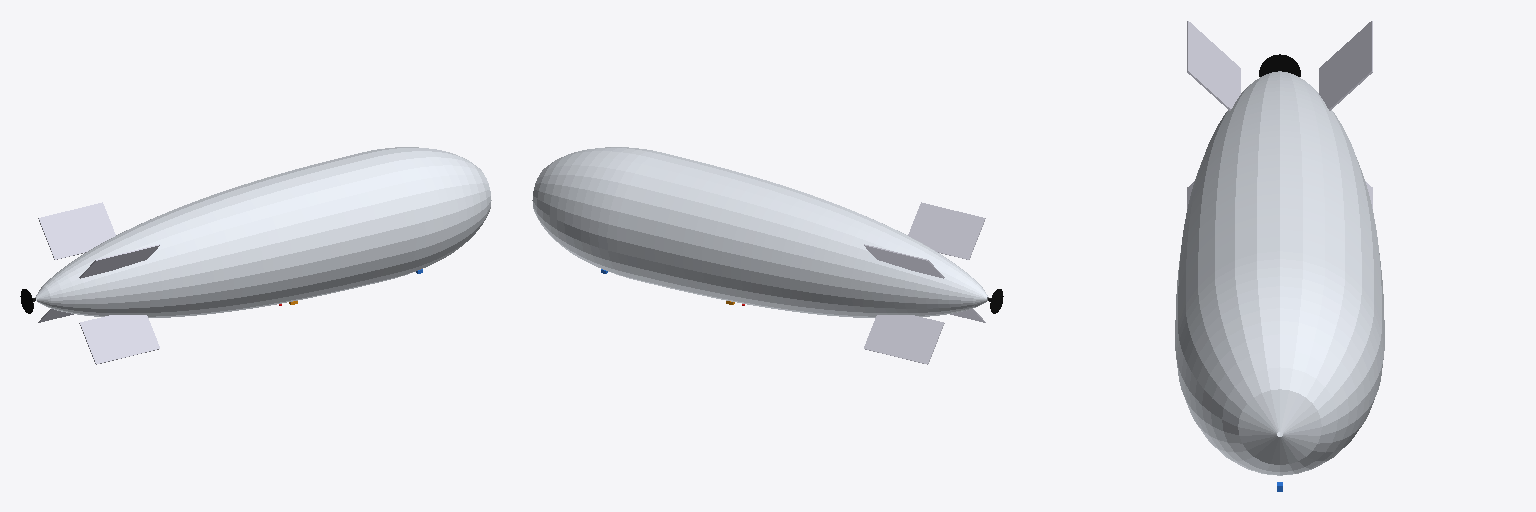
The robot description file, URDF, robot "aiur_S2-dayloiter_hull":
<?xml version="1.0"?>
<!-- GENERATED by tools/strato_export.py from design point S2-dayloiter/hull. Do not edit. -->
<robot name="aiur_S2-dayloiter_hull">
  <link name="base_link">
    <inertial><mass value="15.7619"/>
      <origin xyz="0 0 -1.2139"/>
      <inertia ixx="46.329" iyy="289.673" izz="266.446" ixy="0" ixz="0" iyz="0"/></inertial>
    <visual><geometry><mesh filename="package://aiur_description/meshes/S2-dayloiter_hull_hull.stl"/></geometry>
      <material name="film"><color rgba="0.92 0.94 0.97 0.55"/></material></visual>
  </link>
  <link name="fin_0_link"><visual><geometry><box size="2.512 0.04 1.570"/></geometry>
    <material name="fin"><color rgba="0.85 0.85 0.9 0.9"/></material></visual></link>
  <joint name="fin_0_joint" type="fixed"><parent link="base_link"/><child link="fin_0_link"/>
    <origin xyz="-7.560 -1.387 1.387" rpy="0.7854 0 0"/></joint>
  <link name="fin_1_link"><visual><geometry><box size="2.512 0.04 1.570"/></geometry>
    <material name="fin"><color rgba="0.85 0.85 0.9 0.9"/></material></visual></link>
  <joint name="fin_1_joint" type="fixed"><parent link="base_link"/><child link="fin_1_link"/>
    <origin xyz="-7.560 -1.387 -1.387" rpy="2.3562 0 0"/></joint>
  <link name="fin_2_link"><visual><geometry><box size="2.512 0.04 1.570"/></geometry>
    <material name="fin"><color rgba="0.85 0.85 0.9 0.9"/></material></visual></link>
  <joint name="fin_2_joint" type="fixed"><parent link="base_link"/><child link="fin_2_link"/>
    <origin xyz="-7.560 1.387 -1.387" rpy="3.9270 0 0"/></joint>
  <link name="fin_3_link"><visual><geometry><box size="2.512 0.04 1.570"/></geometry>
    <material name="fin"><color rgba="0.85 0.85 0.9 0.9"/></material></visual></link>
  <joint name="fin_3_joint" type="fixed"><parent link="base_link"/><child link="fin_3_link"/>
    <origin xyz="-7.560 1.387 1.387" rpy="5.4978 0 0"/></joint>
  <link name="bay_link"><visual><geometry><box size="0.26 0.16 0.12"/></geometry><material name="bay_link"><color rgba="0.95 0.6 0.1 1"/></material></visual></link>
  <joint name="bay_link_joint" type="fixed"><parent link="base_link"/><child link="bay_link"/>
    <origin xyz="0 0 -2.451" rpy="0 0 0"/></joint>
  <link name="payload_link"><visual><geometry><box size="0.20 0.14 0.12"/></geometry><material name="payload_link"><color rgba="0.2 0.5 0.9 1"/></material></visual></link>
  <joint name="payload_link_joint" type="fixed"><parent link="base_link"/><child link="payload_link"/>
    <origin xyz="4.931 0 -2.451" rpy="0 0 0"/></joint>
  <link name="ftu_link"><visual><geometry><box size="0.10 0.07 0.05"/></geometry><material name="ftu_link"><color rgba="0.9 0.1 0.1 1"/></material></visual></link>
  <joint name="ftu_link_joint" type="fixed"><parent link="base_link"/><child link="ftu_link"/>
    <origin xyz="-0.500 0 -2.451" rpy="0 0 0"/></joint>
  <link name="gnss_link"></link>
  <joint name="gnss_link_joint" type="fixed"><parent link="base_link"/><child link="gnss_link"/>
    <origin xyz="0 0 -2.351" rpy="0 0 0"/></joint>
  <link name="baro_link"></link>
  <joint name="baro_link_joint" type="fixed"><parent link="base_link"/><child link="baro_link"/>
    <origin xyz="0 0 -2.451" rpy="0 0 0"/></joint>
  <link name="ambient_probe"></link>
  <joint name="ambient_probe_joint" type="fixed"><parent link="base_link"/><child link="ambient_probe"/>
    <origin xyz="0.4 0 -2.651" rpy="0 0 0"/></joint>
  <link name="gas_probe"></link>
  <joint name="gas_probe_joint" type="fixed"><parent link="base_link"/><child link="gas_probe"/>
    <origin xyz="0 0 -1.901" rpy="0 0 0"/></joint>
  <link name="stern_pod_link"><visual><geometry><box size="0.22 0.10 0.10"/></geometry>
    <material name="pod"><color rgba="0.15 0.15 0.15 1"/></material></visual></link>
  <joint name="stern_pod_joint" type="fixed"><parent link="base_link"/><child link="stern_pod_link"/>
    <origin xyz="-10.175 0 0"/></joint>
  <link name="gimbal_yaw_link"/>
  <joint name="gimbal_yaw_joint" type="revolute"><parent link="stern_pod_link"/><child link="gimbal_yaw_link"/>
    <origin xyz="-0.12 0 0"/><axis xyz="0 0 1"/>
    <limit lower="-0.436" upper="0.436" effort="1.0" velocity="1.05"/></joint>
  <link name="gimbal_pitch_link"/>
  <joint name="gimbal_pitch_joint" type="revolute"><parent link="gimbal_yaw_link"/><child link="gimbal_pitch_link"/>
    <axis xyz="0 1 0"/><limit lower="-0.436" upper="0.436" effort="1.0" velocity="1.05"/></joint>
  <link name="propeller_link"><visual><geometry>
    <cylinder radius="0.440" length="0.01"/></geometry>
    <origin rpy="0 1.5708 0"/><material name="prop"><color rgba="0.1 0.1 0.1 0.5"/></material></visual></link>
  <joint name="propeller_joint" type="continuous"><parent link="gimbal_pitch_link"/><child link="propeller_link"/>
    <origin xyz="-0.08 0 0"/><axis xyz="1 0 0"/></joint>
</robot>

--- What the picture shows (computed from the rendered views, not written in the file) ---
The picture shows the robot from 3 angles, left to right: view 1: azimuth 30°, elevation 25°; view 2: azimuth 150°, elevation 25°; view 3: azimuth 270°, elevation 25°; orthographic projection.
Model aiur_S2-dayloiter_hull with 16 links and 15 joints (2 revolute, 1 continuous, 12 fixed), rooted at base_link, posed every joint at zero.
Visible links, largest first — view 1: base_link, fin_1_link, fin_3_link, fin_0_link; view 2: base_link, fin_2_link, fin_0_link, fin_3_link; view 3: base_link, fin_0_link, fin_3_link, propeller_link.
Link boxes in pixels (x1,y1,x2,y2): base_link: (35, 147, 491, 317); fin_1_link: (79, 315, 159, 364); fin_3_link: (38, 202, 115, 259); fin_0_link: (79, 244, 159, 278); base_link: (532, 147, 988, 317); fin_2_link: (864, 315, 944, 364); fin_0_link: (908, 202, 985, 259); fin_3_link: (864, 244, 944, 278); base_link: (1175, 71, 1384, 475); fin_0_link: (1187, 21, 1240, 110); fin_3_link: (1319, 21, 1372, 110); propeller_link: (1259, 54, 1300, 76).
Size in the robot's own frame: 17.96 by 4.4 by 4.71 metres.
Meshes: 1 distinct files referenced, 1 mesh visuals loaded (1 binary STL).
